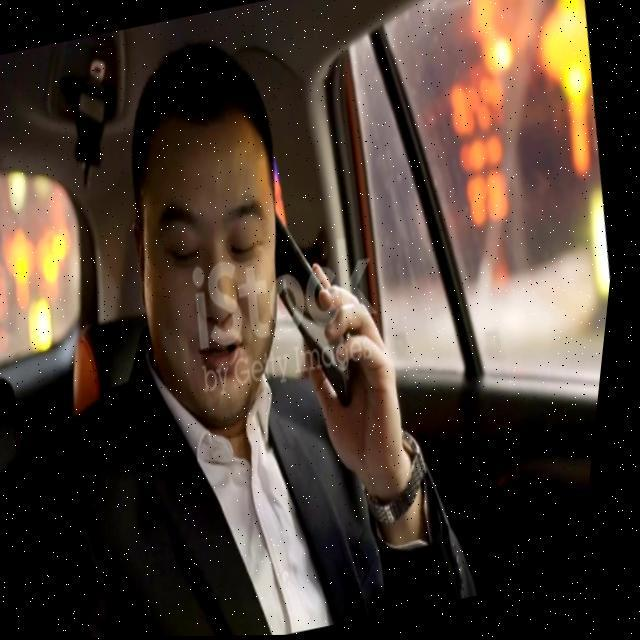PhoneCall: (257, 198, 380, 414)
